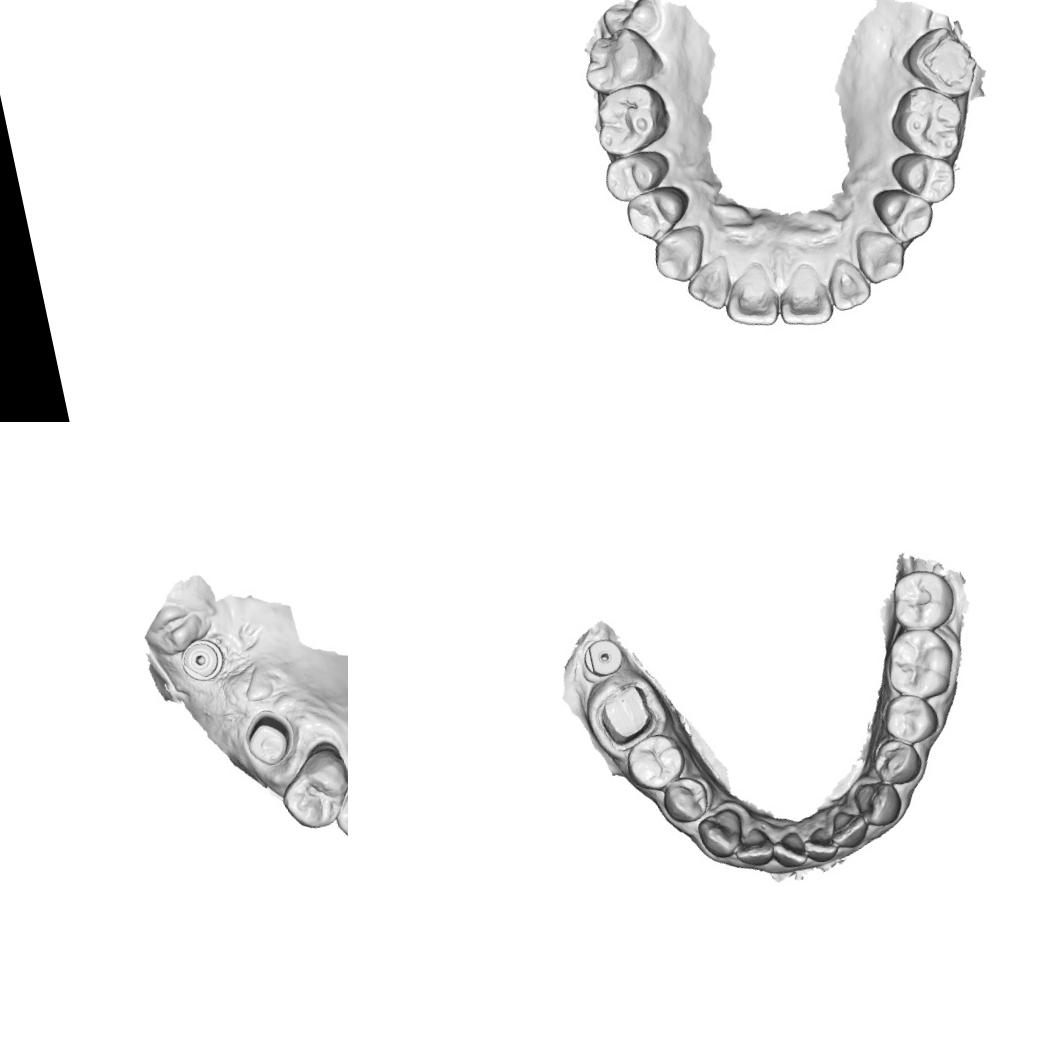abutment: (237, 709, 299, 772)
canine: (646, 219, 715, 289), (850, 220, 912, 288), (850, 776, 906, 832), (694, 804, 748, 862)
crown: (588, 677, 664, 756)
implant: (178, 633, 225, 686), (579, 634, 627, 681)
incisor: (715, 256, 784, 335), (768, 258, 836, 334), (679, 251, 740, 318), (822, 249, 876, 315), (730, 822, 778, 871), (825, 805, 872, 852), (768, 828, 810, 872), (800, 823, 839, 866)
molar: (882, 76, 973, 170), (586, 76, 677, 162), (575, 20, 667, 97), (879, 621, 961, 706), (884, 564, 960, 638)
premolar: (272, 744, 348, 835), (620, 180, 698, 250), (888, 142, 962, 213), (868, 178, 940, 250), (598, 144, 676, 209), (620, 728, 689, 796), (877, 688, 942, 749), (869, 733, 926, 790), (659, 772, 714, 826), (324, 762, 348, 854)
